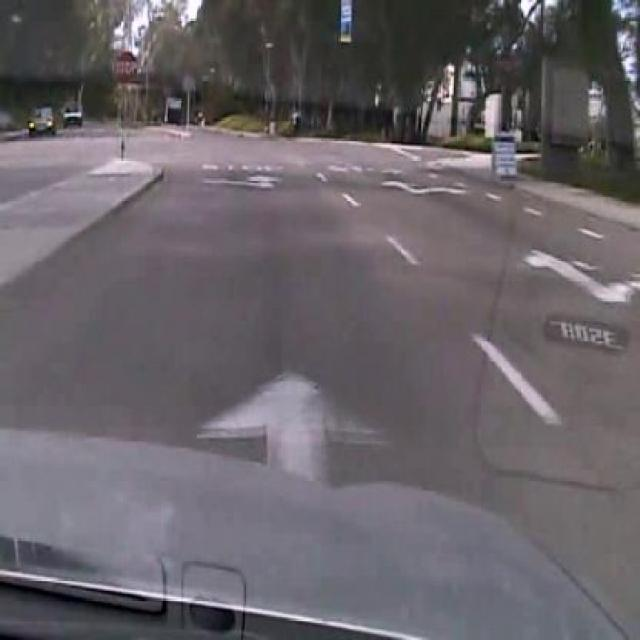Stop: (109, 51, 140, 89)
